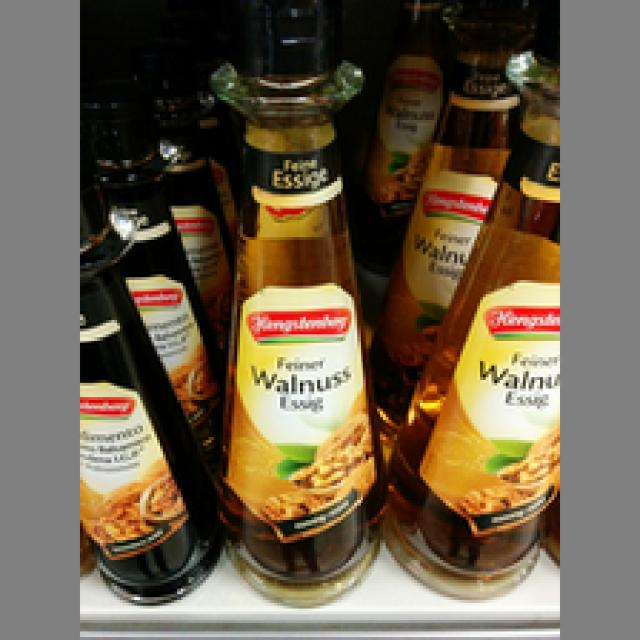groceries: (200, 34, 386, 609), (394, 63, 560, 588), (77, 168, 200, 603)
